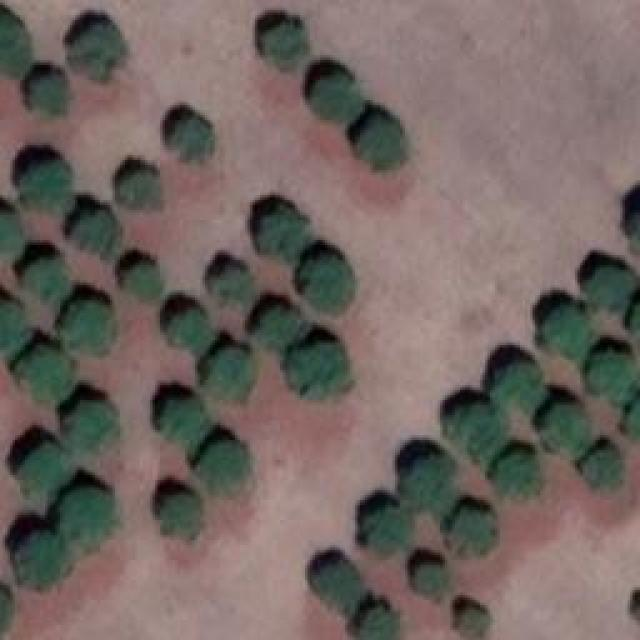Tree: (285, 342, 350, 400), (63, 485, 113, 550), (303, 255, 356, 313), (445, 410, 505, 460), (70, 25, 125, 78), (203, 348, 256, 403), (198, 440, 248, 498), (15, 535, 68, 588), (68, 403, 118, 458), (18, 350, 73, 400), (408, 458, 458, 513), (313, 560, 363, 615), (22, 160, 70, 213), (355, 118, 403, 171), (20, 445, 70, 495), (545, 308, 590, 363), (160, 400, 205, 453), (495, 365, 543, 413), (60, 305, 113, 348), (263, 208, 306, 261), (313, 75, 363, 120), (593, 353, 633, 406), (25, 260, 68, 308), (160, 492, 203, 540), (265, 22, 308, 70), (73, 213, 118, 258), (168, 308, 211, 353), (545, 405, 588, 450), (368, 508, 411, 553), (587, 268, 635, 308), (453, 510, 496, 553), (0, 15, 30, 75), (493, 455, 538, 495), (170, 120, 213, 160), (258, 310, 301, 348), (30, 75, 70, 115), (120, 173, 163, 208), (205, 268, 250, 301), (125, 265, 163, 303), (582, 450, 620, 488), (0, 305, 28, 350), (360, 607, 397, 640), (0, 212, 22, 257), (413, 563, 446, 593), (460, 608, 488, 638)
